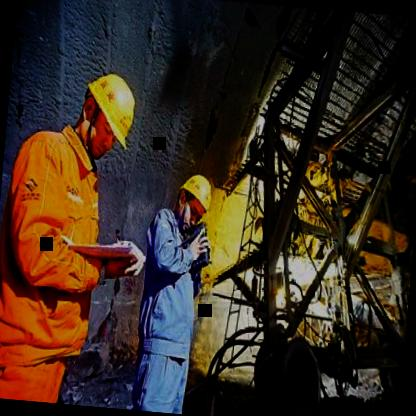helmet: (74, 65, 148, 161), (176, 169, 214, 224)
